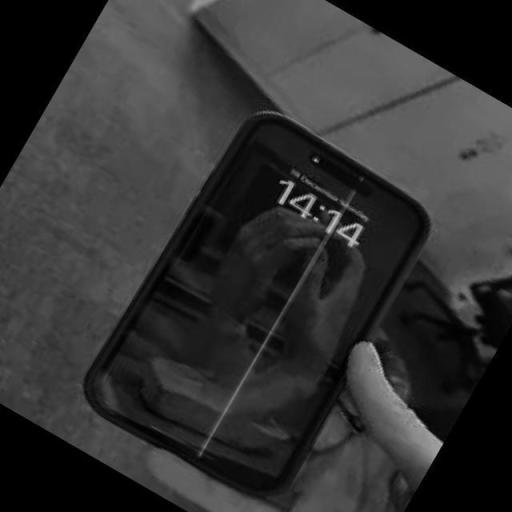phone: (79, 111, 438, 503)
